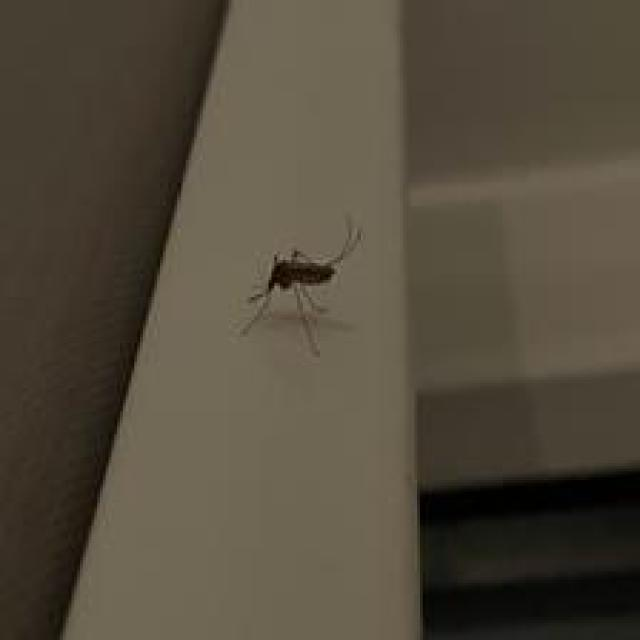Culex: (237, 222, 363, 358)
